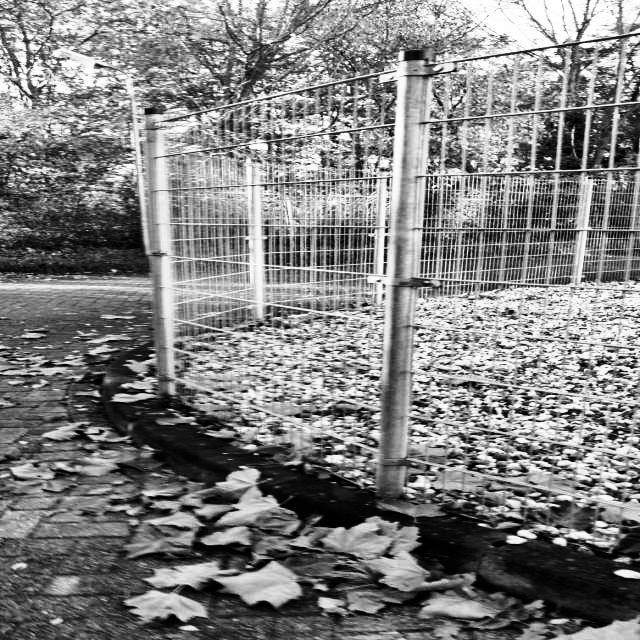fences: (391, 42, 640, 500), (140, 111, 368, 480)
